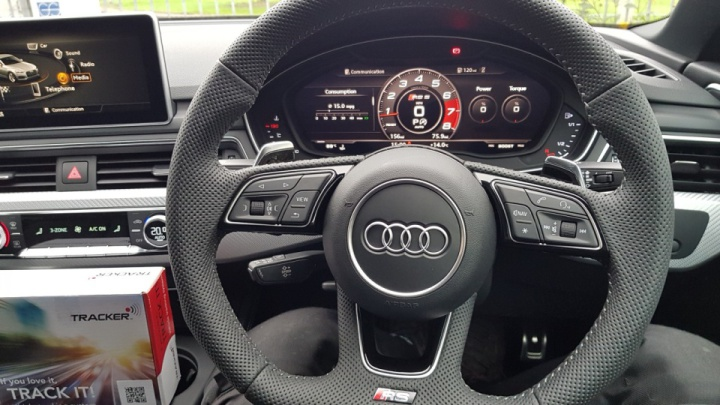audi: (361, 214, 452, 263)
